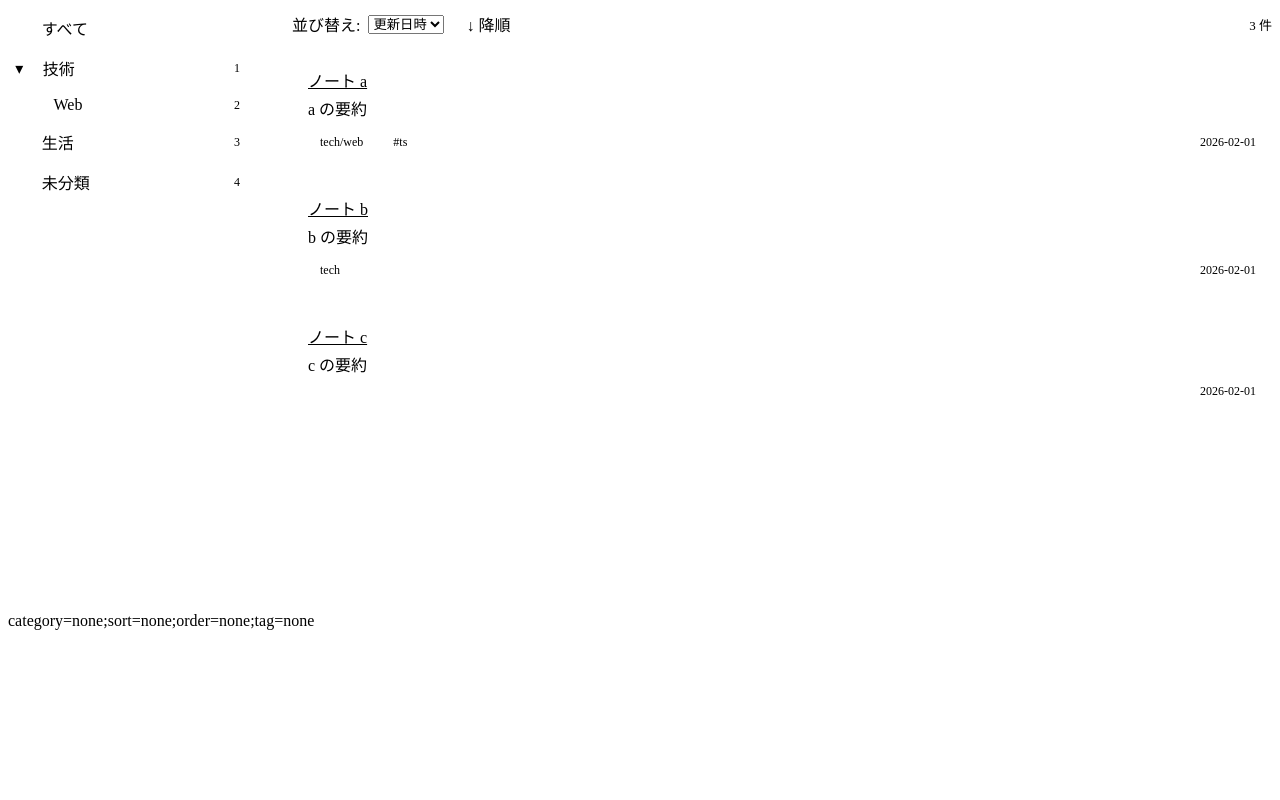
Test: CategoryTree — 選択状態の URL 反映 › カテゴリをクリックすると ?category= が URL に入る
Click the button named "Web のノート件数".
click(147, 105)  # box x1=42 y1=88 x2=252 y2=122
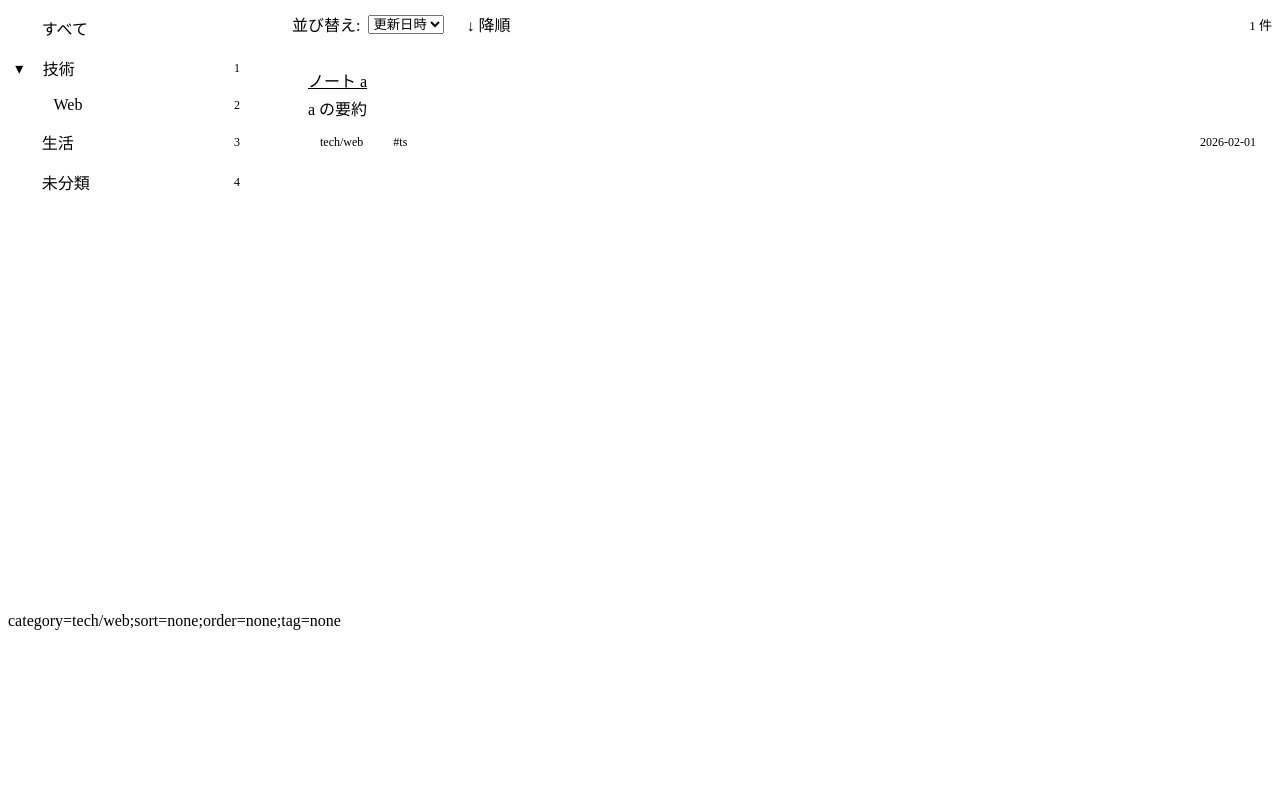
Now the text with test id "probe" shows "category=tech/web", box x1=8 y1=612 x2=341 y2=629
